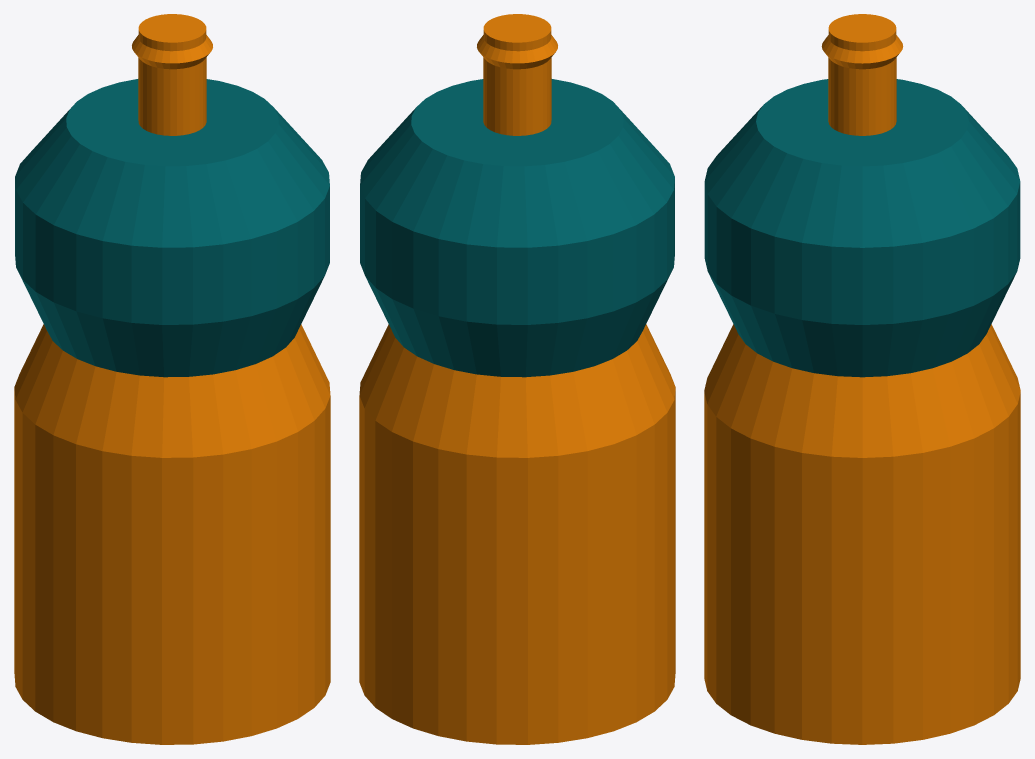
Rendered from garrafa.fbx.
3 views of the same model, side by side, from view 1: azimuth 30°, elevation 25°; view 2: azimuth 150°, elevation 25°; view 3: azimuth 270°, elevation 25° (orthographic).
Visible parts, largest first — view 1: Cylinder.001, Cylinder.002, Cylinder; view 2: Cylinder.001, Cylinder.002, Cylinder; view 3: Cylinder.001, Cylinder.002, Cylinder.
Part boxes in pixels (box(x1,y1,x2,y2)): Cylinder.001: box(14, 324, 330, 744); Cylinder.002: box(15, 79, 329, 377); Cylinder: box(132, 14, 212, 135); Cylinder.001: box(359, 324, 675, 744); Cylinder.002: box(360, 79, 674, 377); Cylinder: box(477, 14, 557, 135); Cylinder.001: box(704, 324, 1020, 744); Cylinder.002: box(704, 79, 1020, 377); Cylinder: box(821, 14, 903, 135).
Size of the model in its own units: 200 by 453 by 200.
